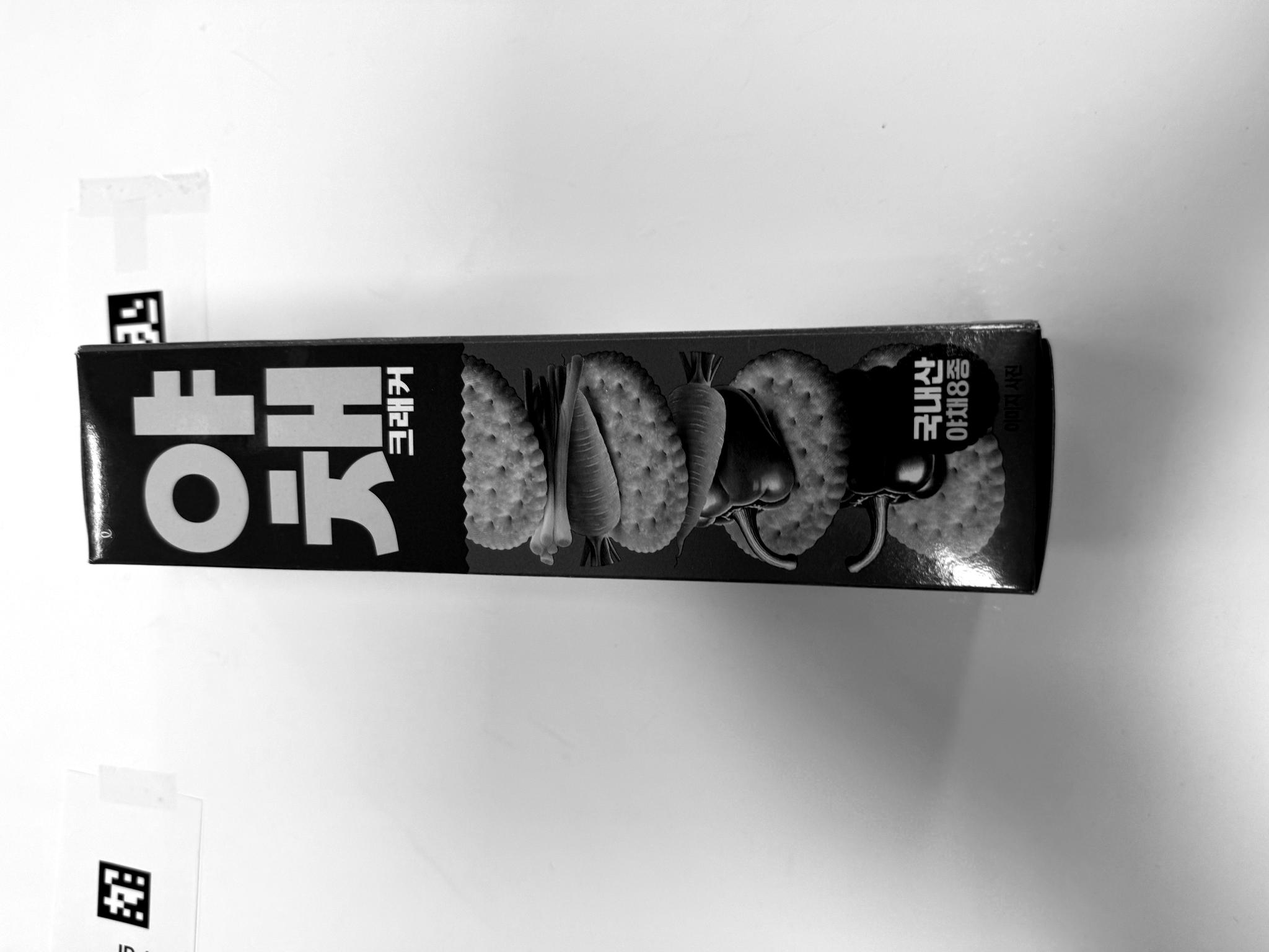cracker_vege: (77, 322, 1054, 593)
